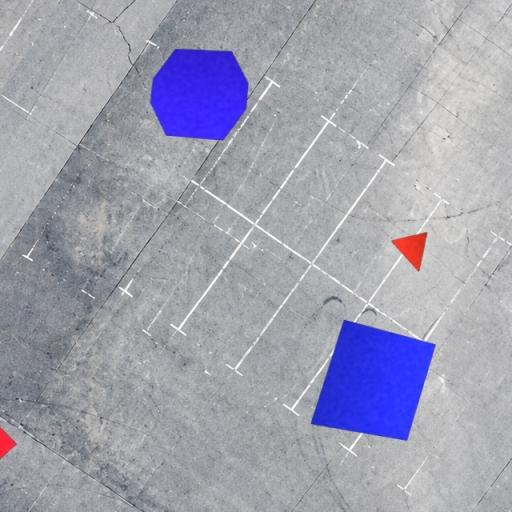BLUE_SQUARE: (310, 318, 436, 442)
